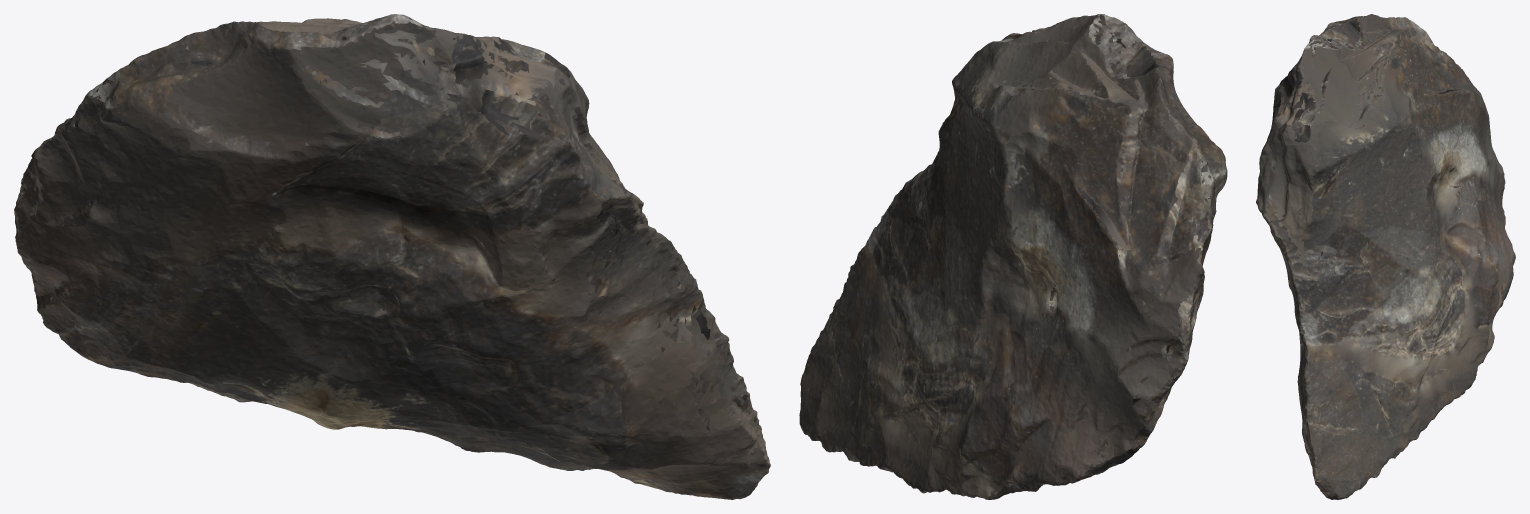
Rendered from Biface.fbx.
3 renders of one model, left to right at view 1: azimuth 30°, elevation 25°; view 2: azimuth 150°, elevation 25°; view 3: azimuth 270°, elevation 25°, orthographic. The views are drawn at different scales.
Visible parts, largest first — view 1: Ptg-Godarville-19B-35-326-Biface; view 2: Ptg-Godarville-19B-35-326-Biface; view 3: Ptg-Godarville-19B-35-326-Biface.
Boxes of the visible parts, box(x1,y1,x2,y2) form: Ptg-Godarville-19B-35-326-Biface: box(14, 14, 770, 499); Ptg-Godarville-19B-35-326-Biface: box(799, 14, 1227, 499); Ptg-Godarville-19B-35-326-Biface: box(1256, 14, 1515, 499).
Bounding box in the file's own units: 8.09 × 7.32 × 4.85.
1 material, 1 textured.
